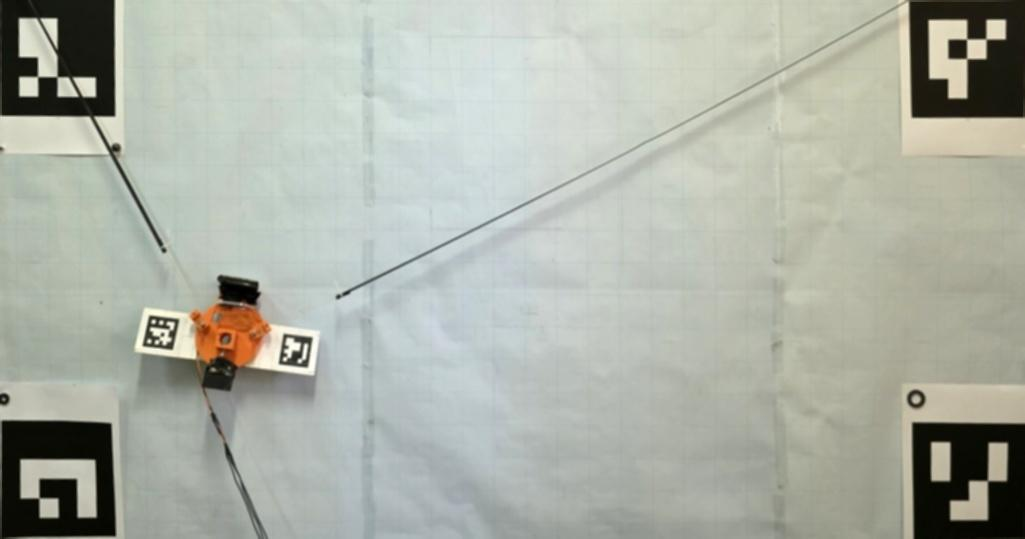robot: (190, 276, 272, 393)
